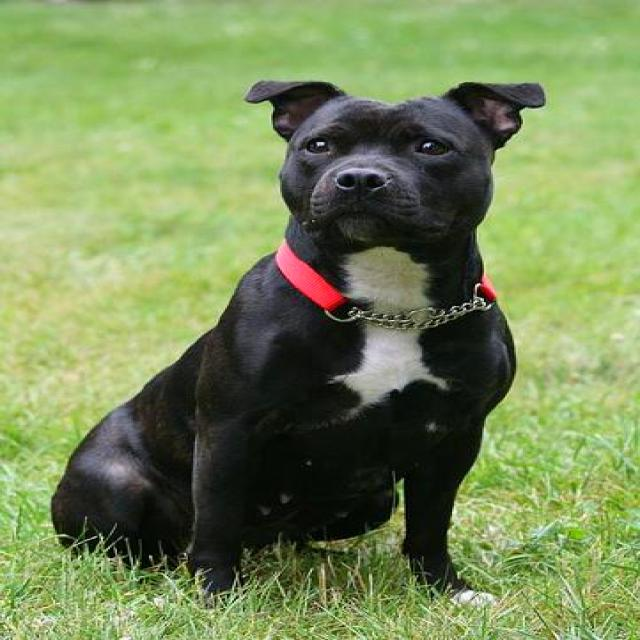staffordshire_bullterrier: (46, 78, 548, 612)
